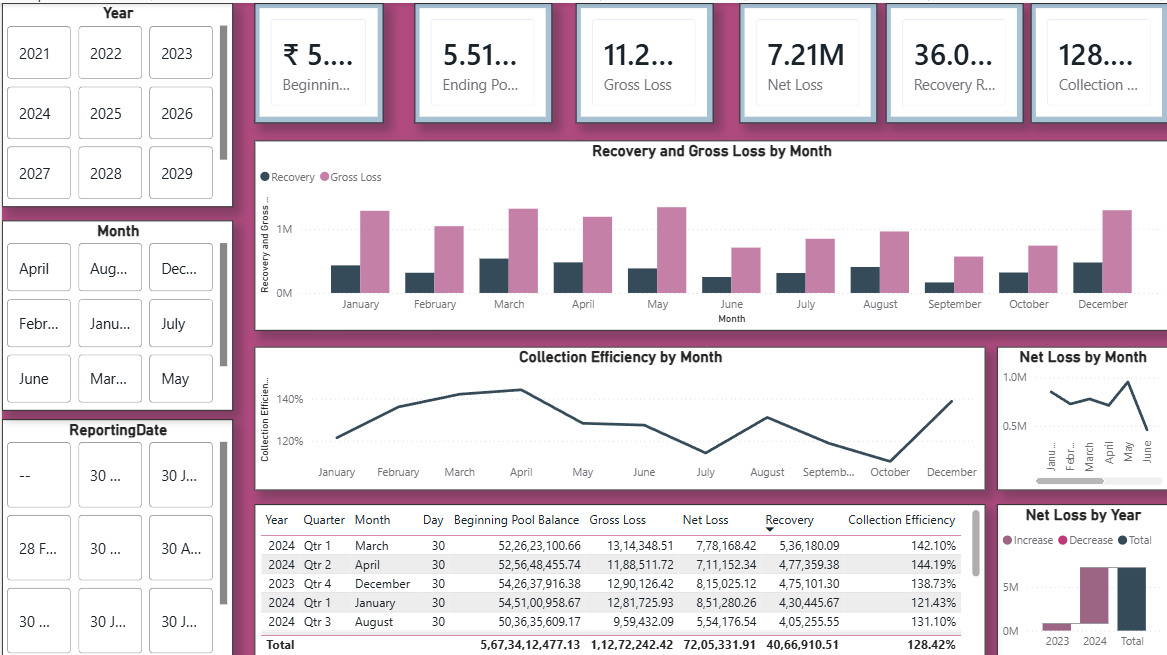

Layout of this report page (visuals, bound fields, positions):
{"tool":"powerbi","page":{"name":"Dynamic Loss Analysis","canvas":[1280,720],"ordinal":2},"visuals":[{"type":"cardVisual","fields":{"Data":["DynamicLoss.Beginning Pool Balance"]},"box":[277.2,0,141.3,131.7],"z":0},{"type":"cardVisual","fields":{"Data":["DynamicLoss.Ending Pool Balance"]},"box":[452.8,0,150.9,131.7],"z":1000},{"type":"cardVisual","fields":{"Data":["DynamicLoss.Net Loss"]},"box":[809.6,0,150.9,131.7],"z":2000},{"type":"cardVisual","fields":{"Data":["DynamicLoss.Recovery Rate 1"]},"box":[970.2,0,150.9,131.7],"z":3000},{"type":"cardVisual","fields":{"Data":["DynamicLoss.Collection Efficiency"]},"box":[1129.3,0,150.9,131.7],"z":4000},{"type":"lineChart","fields":{"Category":["DynamicLoss.ReportingDate.Variation.Date Hierarchy.Month"],"Y":["DynamicLoss.Net Loss"]},"box":[1092.3,377.4,188,157.8],"z":5000},{"type":"clusteredColumnChart","fields":{"Category":["DynamicLoss.ReportingDate.Variation.Date Hierarchy.Month"],"Y":["DynamicLoss.Recovery","DynamicLoss.Gross Loss"]},"box":[277.2,150.9,1003.1,208.6],"z":6000},{"type":"lineChart","fields":{"Y":["DynamicLoss.Collection Efficiency"],"Category":["DynamicLoss.ReportingDate.Variation.Date Hierarchy.Month"]},"box":[277.2,377.4,802.7,157.8],"z":7000},{"type":"waterfallChart","fields":{"Category":["DynamicLoss.ReportingDate.Variation.Date Hierarchy.Year","DynamicLoss.ReportingDate.Variation.Date Hierarchy.Quarter","DynamicLoss.ReportingDate.Variation.Date Hierarchy.Month","DynamicLoss.ReportingDate.Variation.Date Hierarchy.Day"],"Y":["DynamicLoss.Net Loss"]},"box":[1092.3,550.3,188,170.2],"z":8000},{"type":"tableEx","fields":{"Values":["DynamicLoss.ReportingDate.Variation.Date Hierarchy.Year","DynamicLoss.ReportingDate.Variation.Date Hierarchy.Quarter","DynamicLoss.ReportingDate.Variation.Date Hierarchy.Month","DynamicLoss.ReportingDate.Variation.Date Hierarchy.Day","DynamicLoss.Beginning Pool Balance","DynamicLoss.Gross Loss","DynamicLoss.Net Loss","DynamicLoss.Recovery","DynamicLoss.Collection Efficiency"]},"box":[277.2,550.3,802.7,170.2],"z":9000},{"type":"advancedSlicerVisual","fields":{"Values":["DynamicLoss.ReportingDate"]},"box":[0,456.9,253.9,263.5],"z":10000},{"type":"advancedSlicerVisual","fields":{"Values":["Calendar.Year"]},"box":[0,0,253.9,223.7],"z":11000},{"type":"advancedSlicerVisual","fields":{"Values":["Calendar.Month"]},"box":[0,238.8,253.9,208.6],"z":12000},{"type":"cardVisual","fields":{"Data":["DynamicLoss.Gross Loss"]},"box":[629.8,0,150.9,131.7],"z":13000}]}

Visuals, with their boxes in screenshot pixels (x1, y1, x2, y2), scaled from the page's 1280x720 canvas onto the 1167x655 screenshot:
cardVisual - DynamicLoss.Beginning Pool Balance: 253 0 382 120
cardVisual - DynamicLoss.Ending Pool Balance: 413 0 550 120
cardVisual - DynamicLoss.Net Loss: 738 0 876 120
cardVisual - DynamicLoss.Recovery Rate 1: 885 0 1022 120
cardVisual - DynamicLoss.Collection Efficiency: 1030 0 1166 120
lineChart - DynamicLoss.ReportingDate.Variation.Date Hierarchy.Month x DynamicLoss.Net Loss: 996 343 1166 487
clusteredColumnChart - DynamicLoss.ReportingDate.Variation.Date Hierarchy.Month x DynamicLoss.Recovery: 253 137 1166 327
lineChart - DynamicLoss.Collection Efficiency x DynamicLoss.ReportingDate.Variation.Date Hierarchy.Month: 253 343 985 487
waterfallChart - DynamicLoss.ReportingDate.Variation.Date Hierarchy.Year x DynamicLoss.ReportingDate.Variation.Date Hierarchy.Quarter: 996 501 1166 654
tableEx - DynamicLoss.ReportingDate.Variation.Date Hierarchy.Year x DynamicLoss.ReportingDate.Variation.Date Hierarchy.Quarter: 253 501 985 654
advancedSlicerVisual - DynamicLoss.ReportingDate: 0 416 231 654
advancedSlicerVisual - Calendar.Year: 0 0 231 204
advancedSlicerVisual - Calendar.Month: 0 217 231 407
cardVisual - DynamicLoss.Gross Loss: 574 0 712 120
